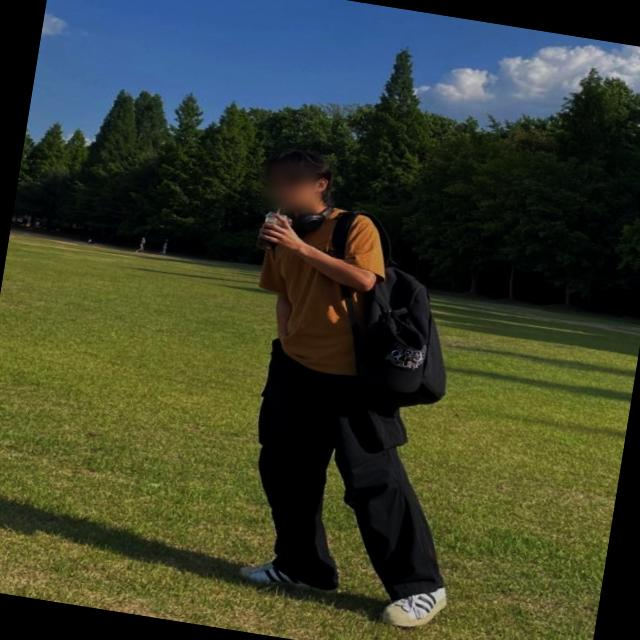cottonpants: (235, 337, 484, 609)
shortsleeve: (246, 196, 394, 379)
